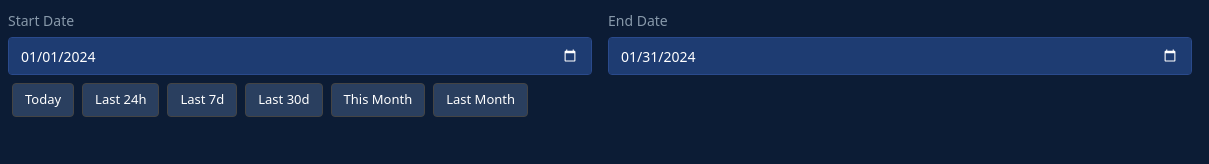
Test case: SimpleDatePicker › Validation › shows error when start date is after end date
This screenshot has width=1209, height=164.
Type "2024-02-15" into the date field named "Start date".
click(300, 56); type("2024-02-15")  # box [8,37,592,75]
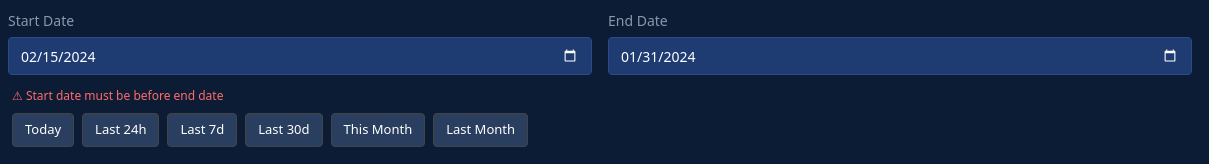
Check: the text "⚠ Start date must be before end date" is shown, box [12,87,223,104]
